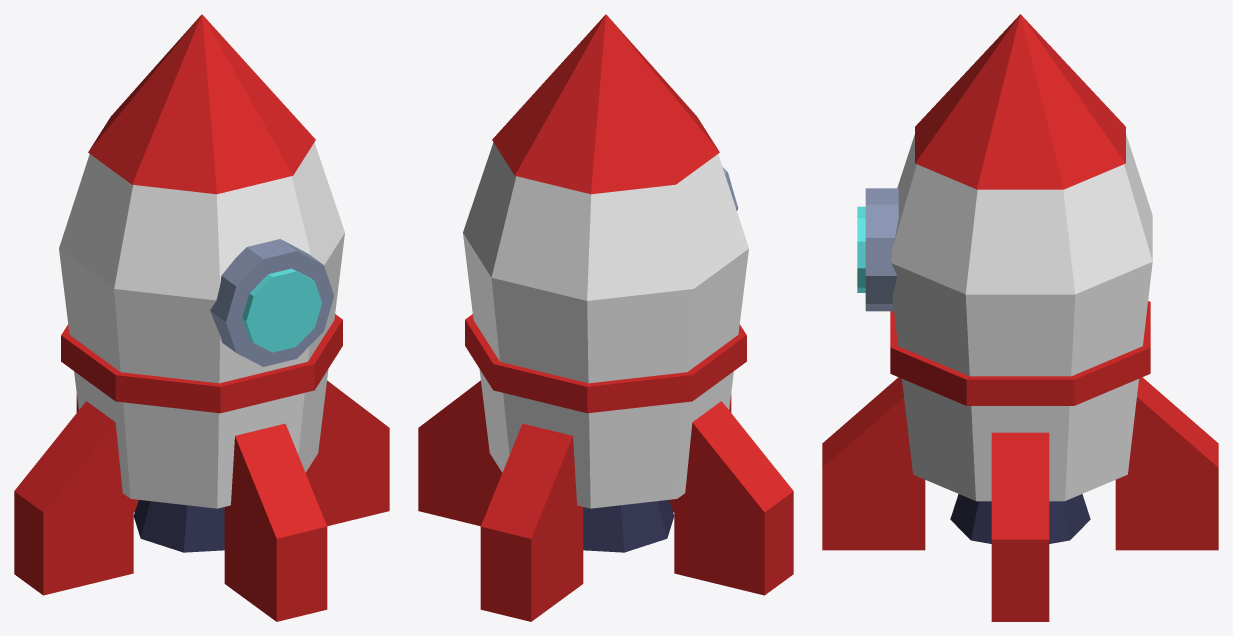
File: rocket.glb
The picture shows the model from 3 angles, left to right: view 1: azimuth 30°, elevation 25°; view 2: azimuth 150°, elevation 25°; view 3: azimuth 270°, elevation 25°; orthographic projection.
Parts seen in each view (by area): view 1: BodyLow, BodyHigh, Nose, FinL, FinF, Band, FinR, Rim, Glass, Nozzle; view 2: BodyLow, BodyHigh, Nose, FinL, FinB, Band, FinR, Nozzle; view 3: BodyLow, BodyHigh, Nose, FinB, FinF, FinR, Band, Rim, Nozzle, Glass.
Boxes of the visible parts, box(x1,y1,x2,y2) form: BodyLow: box(59, 233, 344, 508); BodyHigh: box(59, 142, 344, 300); Nose: box(88, 14, 315, 194); FinL: box(14, 401, 133, 595); FinF: box(224, 423, 327, 621); Band: box(61, 314, 342, 413); FinR: box(305, 380, 389, 526); Rim: box(210, 239, 333, 366); Glass: box(242, 268, 321, 352); Nozzle: box(133, 500, 224, 552); BodyLow: box(463, 233, 748, 508); BodyHigh: box(463, 142, 748, 300); Nose: box(492, 14, 719, 194); FinL: box(674, 401, 793, 595); FinB: box(480, 423, 583, 621); Band: box(465, 314, 746, 413); FinR: box(418, 380, 502, 526); Nozzle: box(583, 500, 674, 552); BodyLow: box(891, 262, 1152, 501); BodyHigh: box(891, 134, 1152, 294); Nose: box(915, 14, 1125, 189); FinB: box(1115, 377, 1218, 550); FinF: box(822, 377, 925, 550); FinR: box(991, 432, 1049, 621); Band: box(890, 301, 1150, 405); Rim: box(865, 188, 898, 311); Nozzle: box(950, 494, 1090, 543); Glass: box(857, 206, 865, 292).
Bounding box in the file's own units: 0.96 × 1.4 × 0.96.
